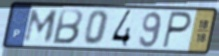0: (83, 8, 110, 47)
4: (110, 8, 134, 49)
9: (137, 10, 163, 49)
B: (50, 8, 84, 46)
M: (21, 8, 60, 44)
P: (160, 10, 194, 51)
